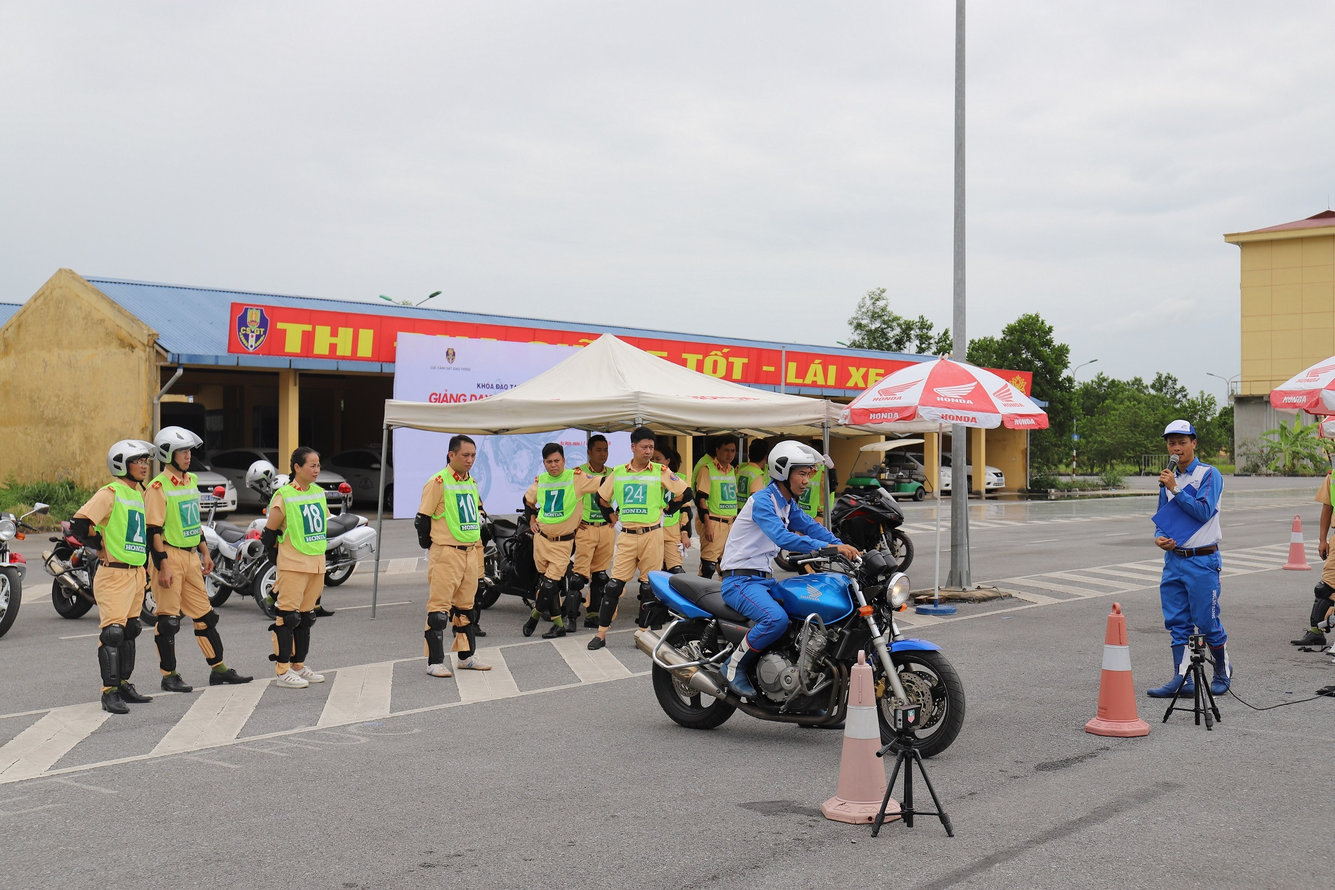xe_may: (642, 540, 975, 762), (0, 515, 24, 641)
